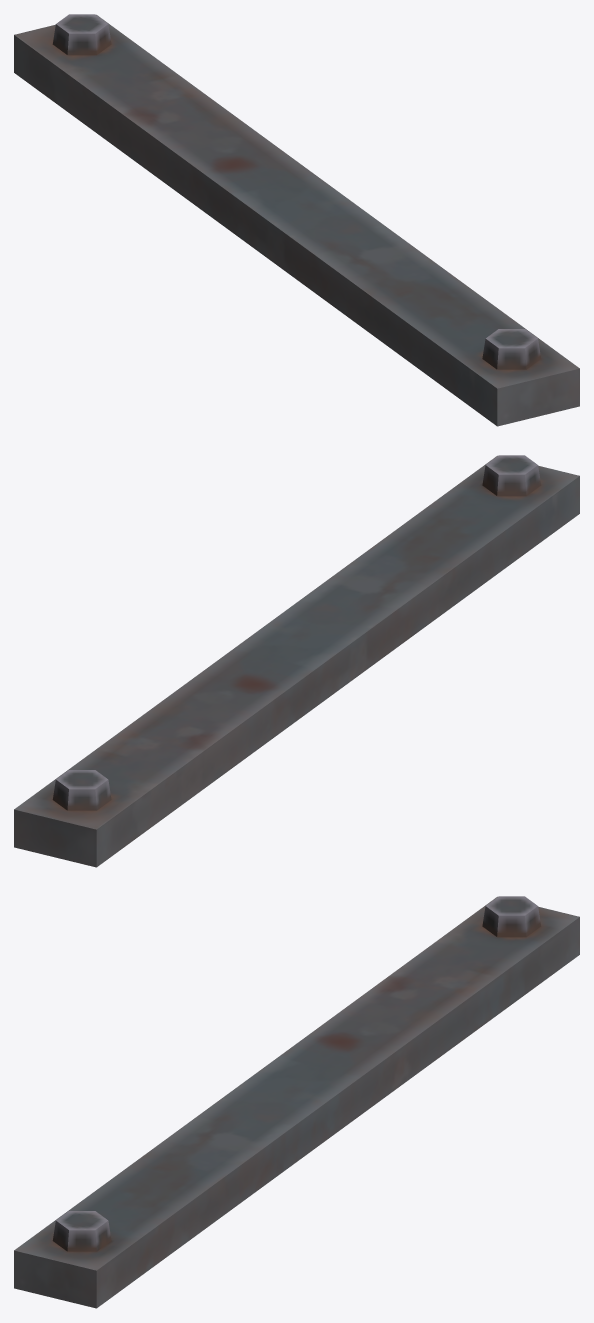
The model's file is Vent_Suport_A.fbx.
The picture shows the model from 3 angles, top to bottom: view 1: azimuth 30°, elevation 25°; view 2: azimuth 150°, elevation 25°; view 3: azimuth 330°, elevation 25°; orthographic projection.
Parts seen in each view (by area): view 1: Cube.005; view 2: Cube.005; view 3: Cube.005.
Boxes of the visible parts, x1,y1,x2,y2 form: Cube.005: [14, 14, 579, 426]; Cube.005: [14, 455, 579, 867]; Cube.005: [14, 896, 579, 1308].
Size of the model in its own units: 19.74 by 13.3 by 200.
